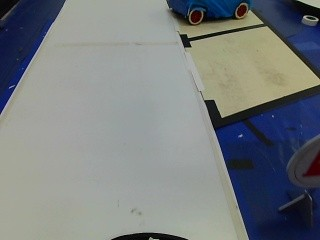car: (166, 0, 248, 24)
